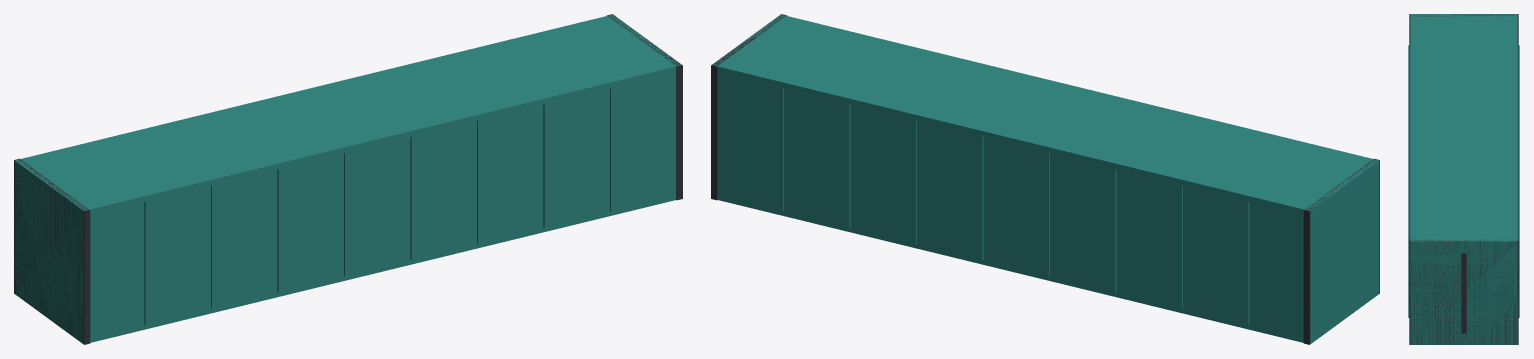
Rendered from prop_in_container_c.glb.
3 views of the same model, side by side, from view 1: azimuth 30°, elevation 25°; view 2: azimuth 150°, elevation 25°; view 3: azimuth 270°, elevation 25° (orthographic). The views are drawn at different scales.
Parts seen in each view (by area): view 1: prop_in_container_c; view 2: prop_in_container_c; view 3: prop_in_container_c.
Part boxes in pixels (x1=…): prop_in_container_c: x1=14, y1=14, x2=682, y2=344; prop_in_container_c: x1=711, y1=14, x2=1379, y2=344; prop_in_container_c: x1=1408, y1=14, x2=1519, y2=344.
Size of what is drawn, in the model's own units: 12.23 by 2.6 by 2.52.
